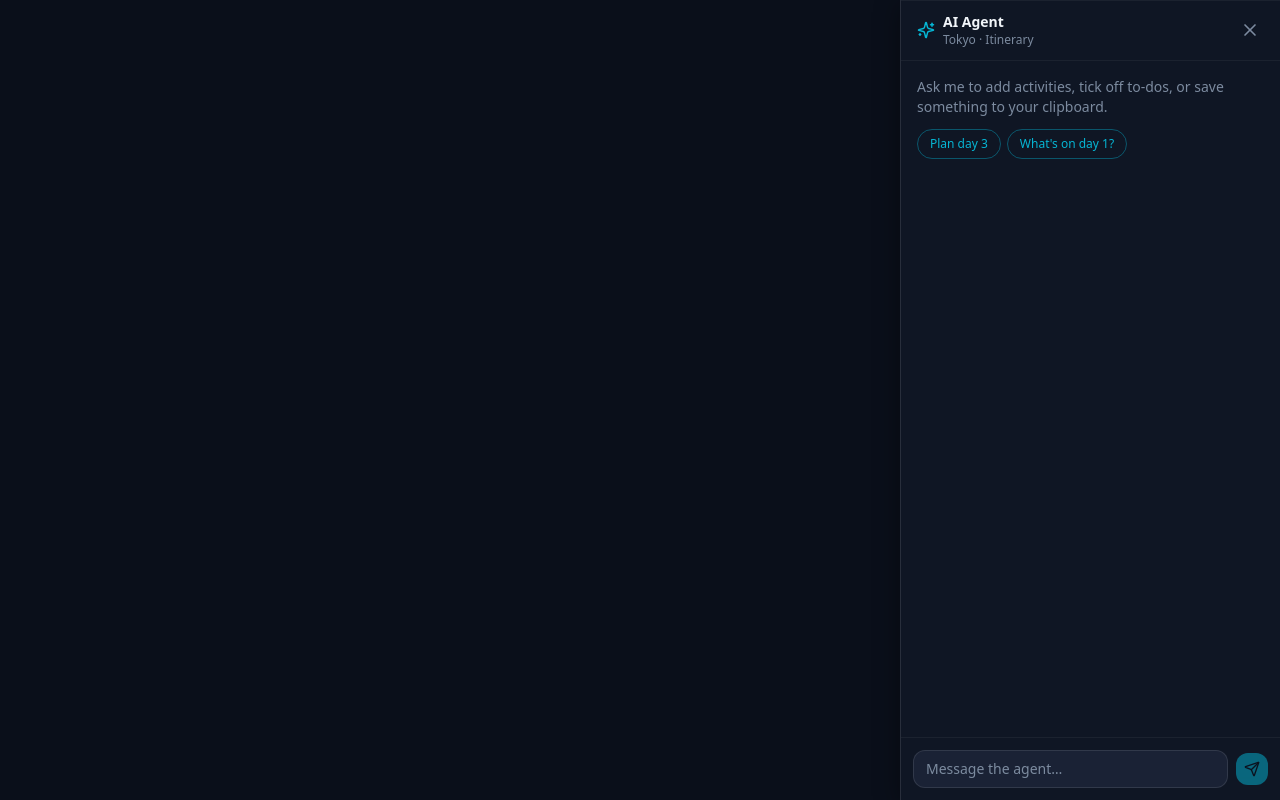
Test: AI agent chat — actions › handles malformed tool arguments gracefully
The width and height of the screenshot is (1280, 800).
Type "do a thing" into the field with test id "agent-input" at (1070, 769), box x1=913 y1=750 x2=1228 y2=788
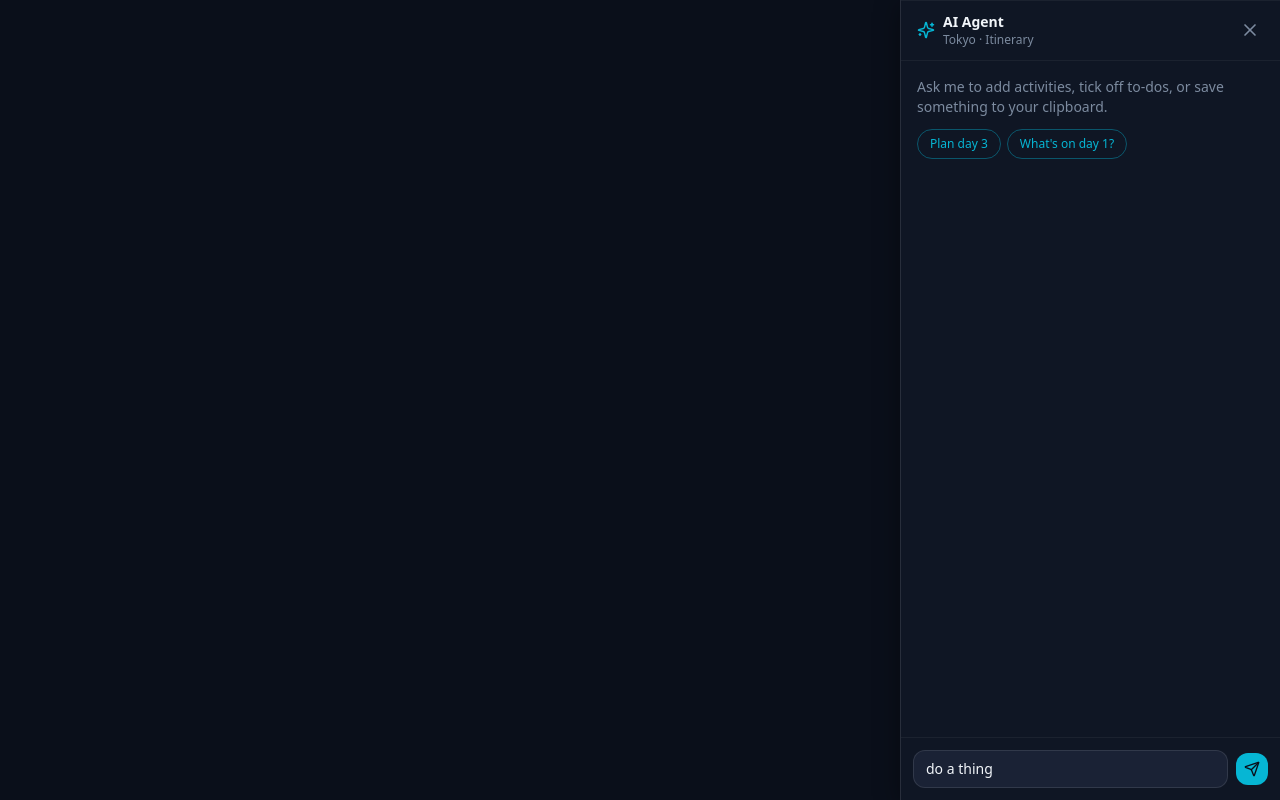
Click the button with test id "agent-send" at (1252, 769), box x1=1236 y1=753 x2=1268 y2=785
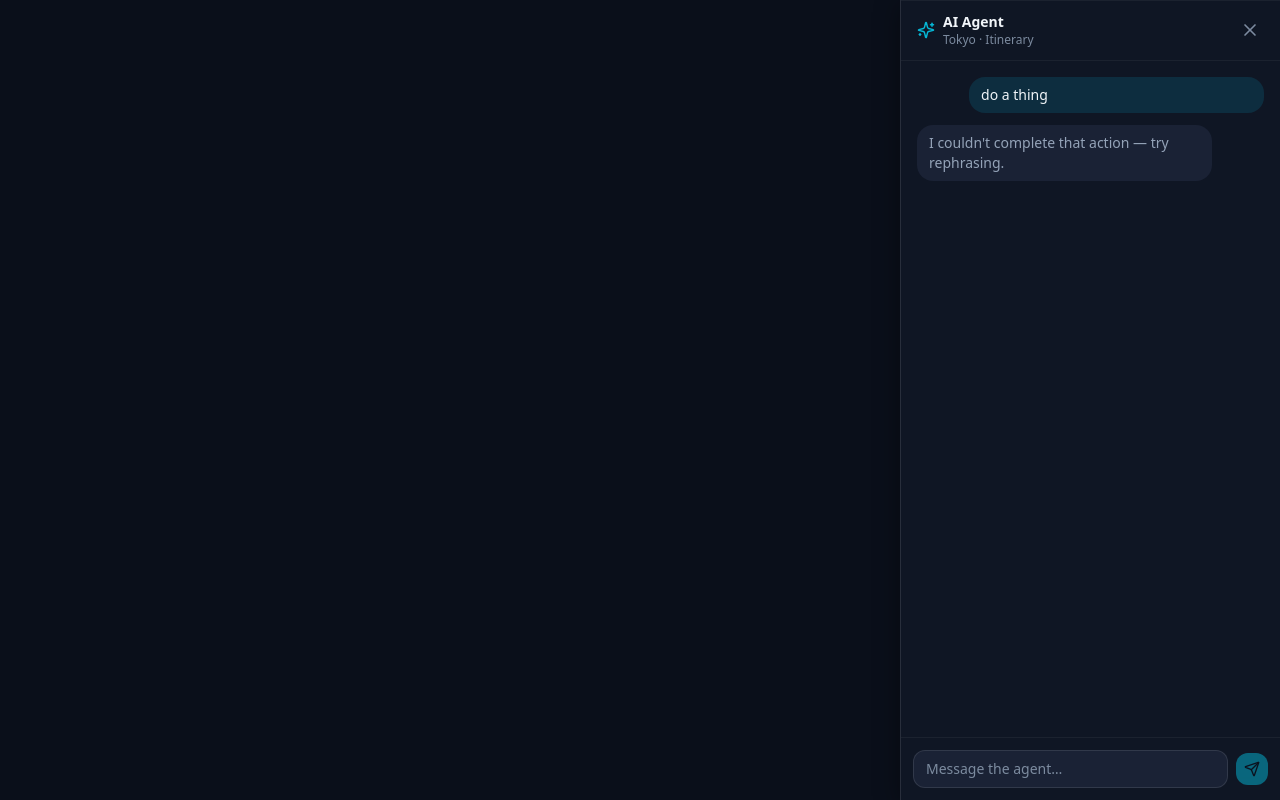
Now the text "I couldn't complete that action — try rephrasing." is shown, box x1=929 y1=133 x2=1200 y2=173
